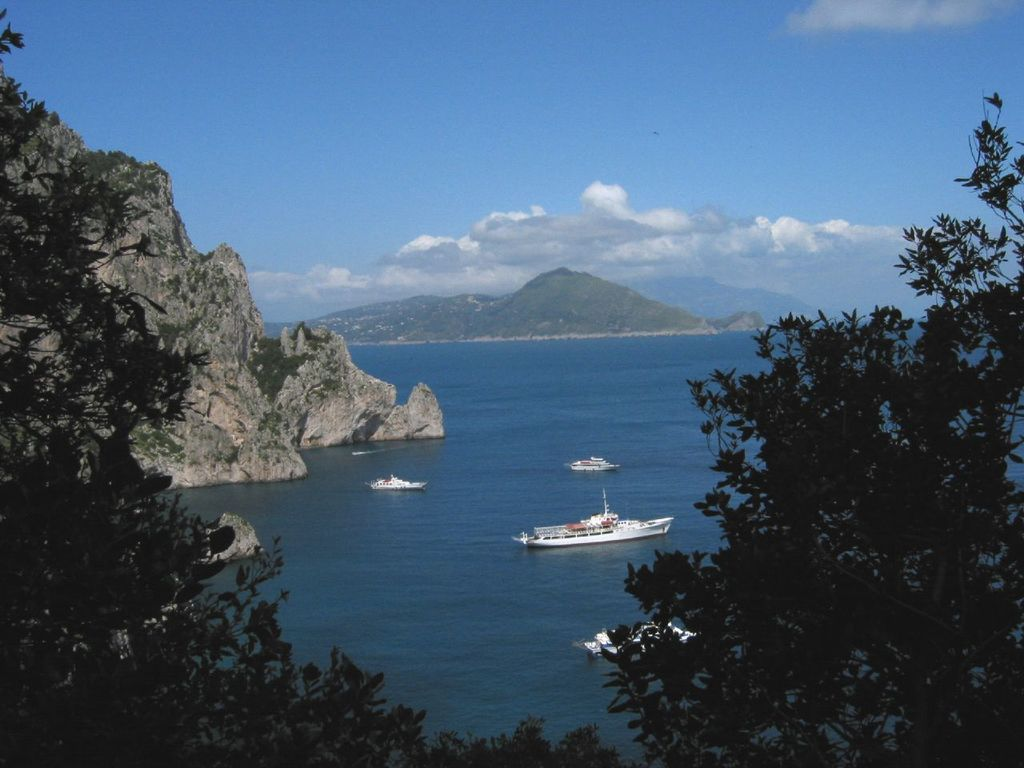Tree: (3, 21, 428, 767), (600, 87, 1023, 767)
